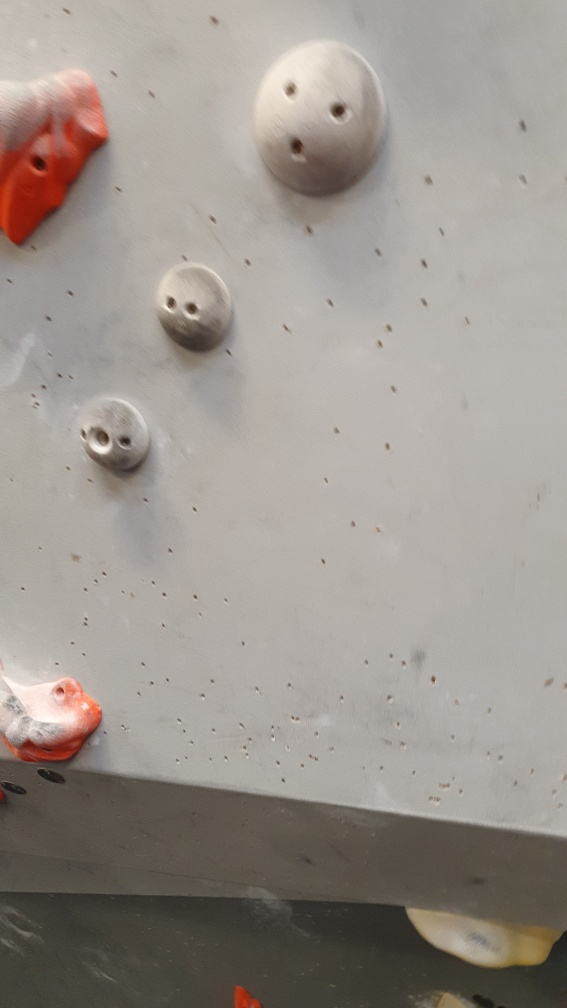Hand Start: (36, 764, 69, 791), (3, 777, 33, 798)
Jug: (1, 63, 111, 253), (1, 674, 107, 774)
Sloper: (251, 34, 386, 199), (152, 257, 236, 354), (76, 395, 157, 475)
